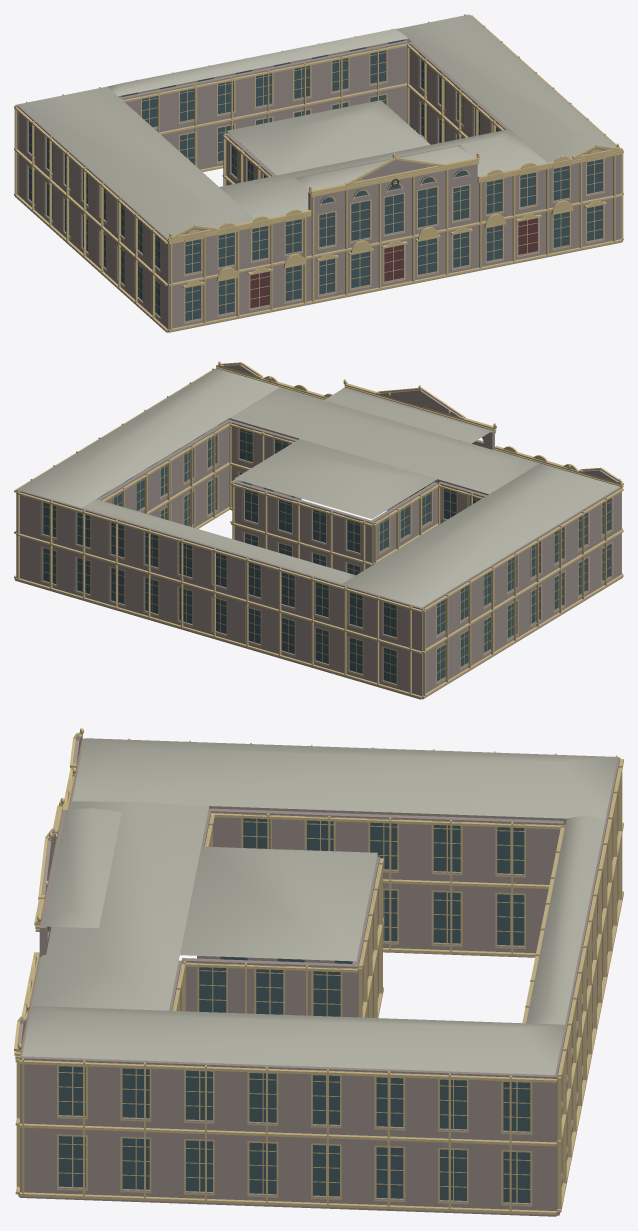
The model's file is edificio-metalico-far.glb.
The picture shows the model from 3 angles, top to bottom: view 1: azimuth 30°, elevation 25°; view 2: azimuth 150°, elevation 25°; view 3: azimuth 270°, elevation 25°; orthographic projection. The views are drawn at different scales.
Visible parts, largest first — view 1: edificio-metalico-0-panel, edificio-metalico-0-roof, edificio-metalico-0-trim, edificio-metalico-0-glass, edificio-metalico-0-door; view 2: edificio-metalico-0-roof, edificio-metalico-0-panel, edificio-metalico-0-trim, edificio-metalico-0-glass; view 3: edificio-metalico-0-roof, edificio-metalico-0-panel, edificio-metalico-0-trim, edificio-metalico-0-glass.
Boxes of the visible parts, x1,y1,x2,y2 form: edificio-metalico-0-panel: (15,15,622,332); edificio-metalico-0-roof: (18,14,616,238); edificio-metalico-0-trim: (14,14,623,331); edificio-metalico-0-glass: (29,39,602,321); edificio-metalico-0-door: (250,218,537,308); edificio-metalico-0-roof: (18,368,619,607); edificio-metalico-0-panel: (14,364,622,699); edificio-metalico-0-trim: (14,361,623,698); edificio-metalico-0-glass: (43,429,610,683); edificio-metalico-0-roof: (22,738,617,1074); edificio-metalico-0-panel: (17,736,619,1216); edificio-metalico-0-trim: (14,728,623,1215); edificio-metalico-0-glass: (59,818,530,1203).
Size of the model in its own units: 63.49 by 17.67 by 47.88.
